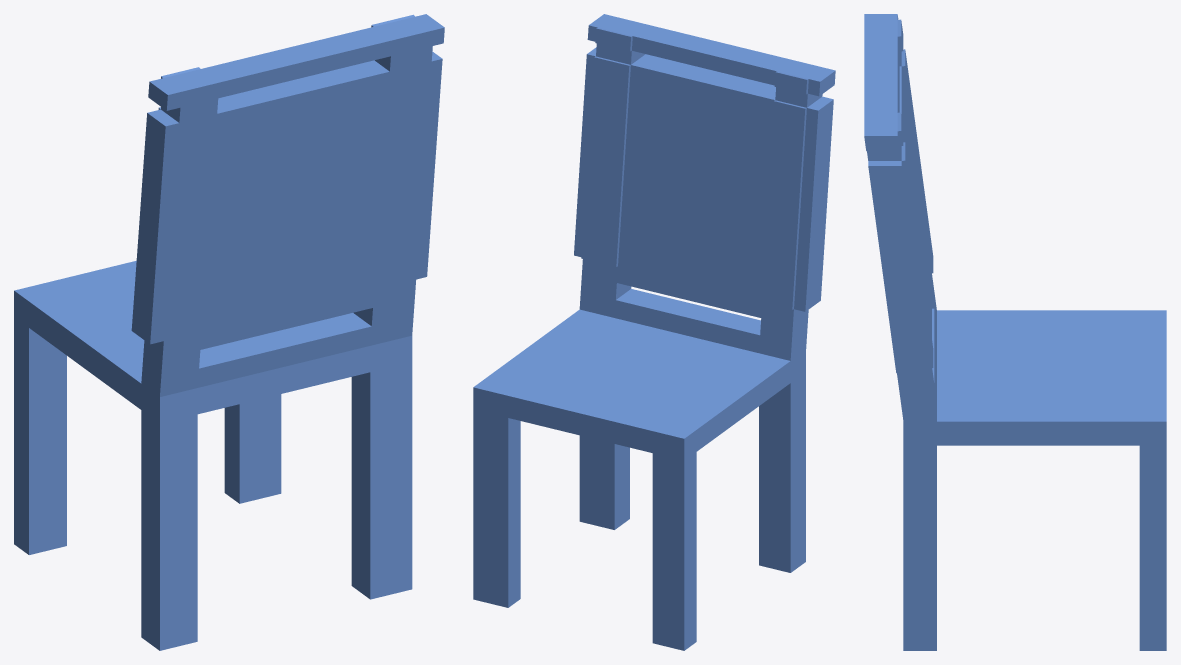
File: kursi1biru.glb
3 renders of one model, left to right at view 1: azimuth 30°, elevation 25°; view 2: azimuth 150°, elevation 25°; view 3: azimuth 270°, elevation 25°, orthographic. The views are drawn at different scales.
Parts seen in each view (by area): view 1: Cube; view 2: Cube; view 3: Cube.
Boxes of the visible parts, x1,y1,x2,y2 form: Cube: (14, 14, 444, 650); Cube: (473, 14, 835, 650); Cube: (864, 14, 1166, 650).
Size of the model in its own units: 0.745 by 1.48 by 0.7802.
